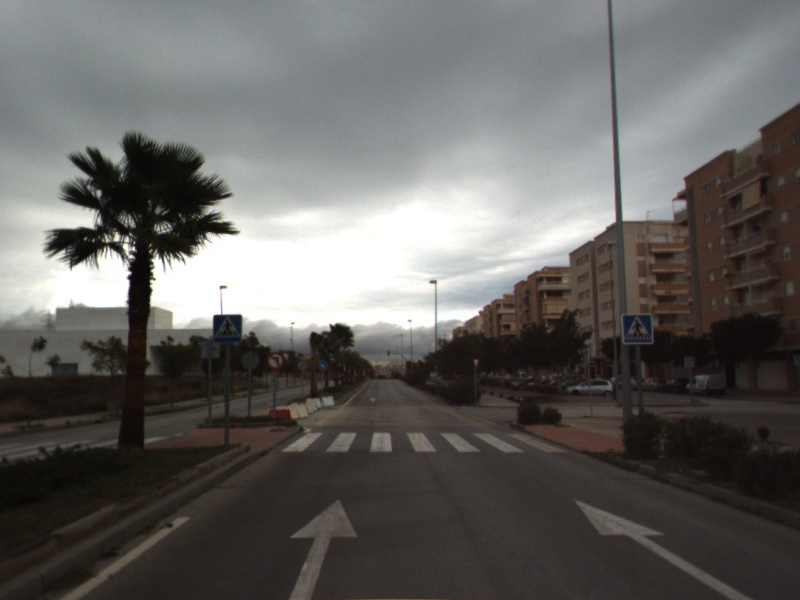STRAIGHT: (572, 497, 757, 600), (285, 497, 360, 600)
